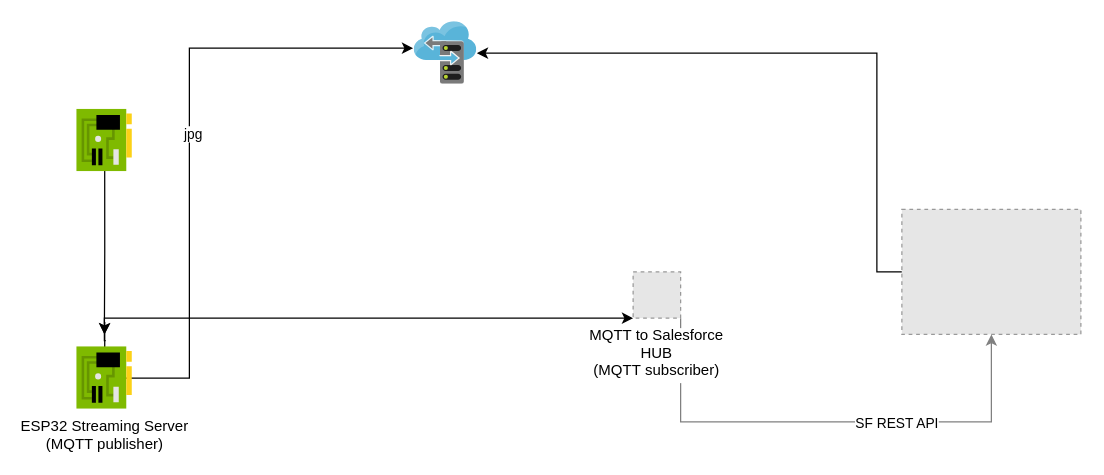
The diagram is 1104 pixels wide and 475 high, and some of its shapes have lost their labels. Grey dashed boxes stand in for pictures. Here are the shapes that lost their labels. From the top down, the centre of each, then its label:
point 445,52: Image Server
point 104,140: ESP32 PIR+YK038 Sensor
